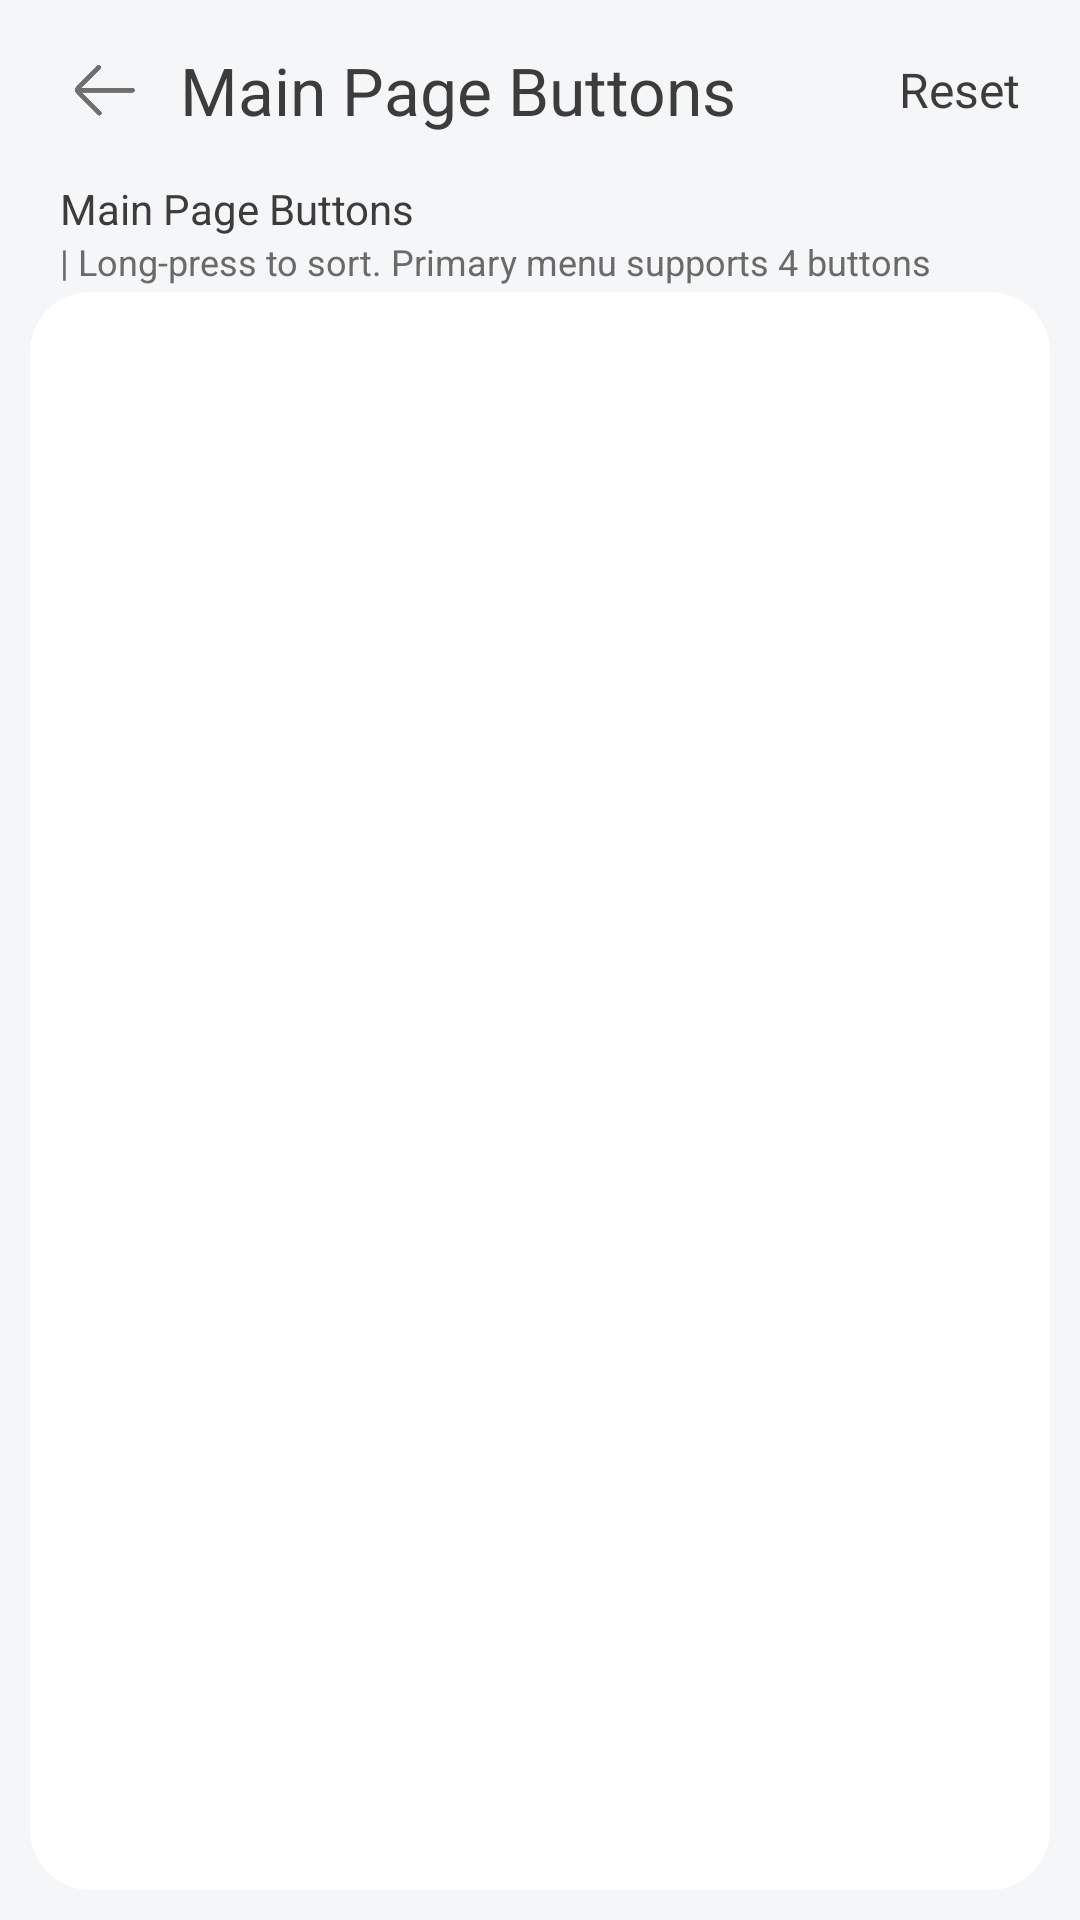

Where icons sit on this 1080px x 1920px app screen, as (x1, y1, x2, y2):
back: (75, 65, 135, 116)
